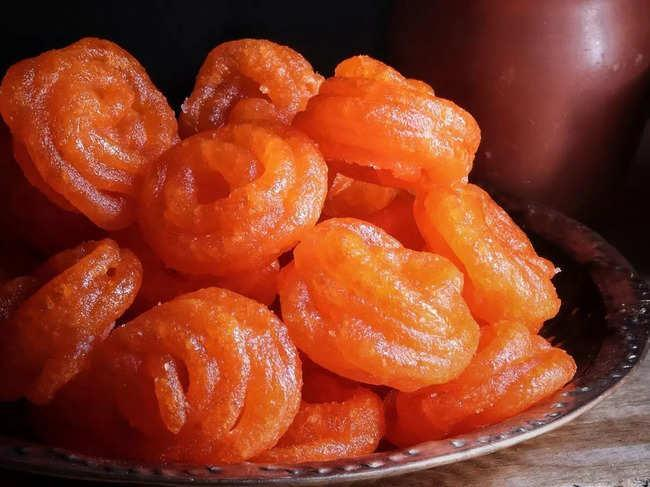jalebi: (0, 31, 587, 453)
